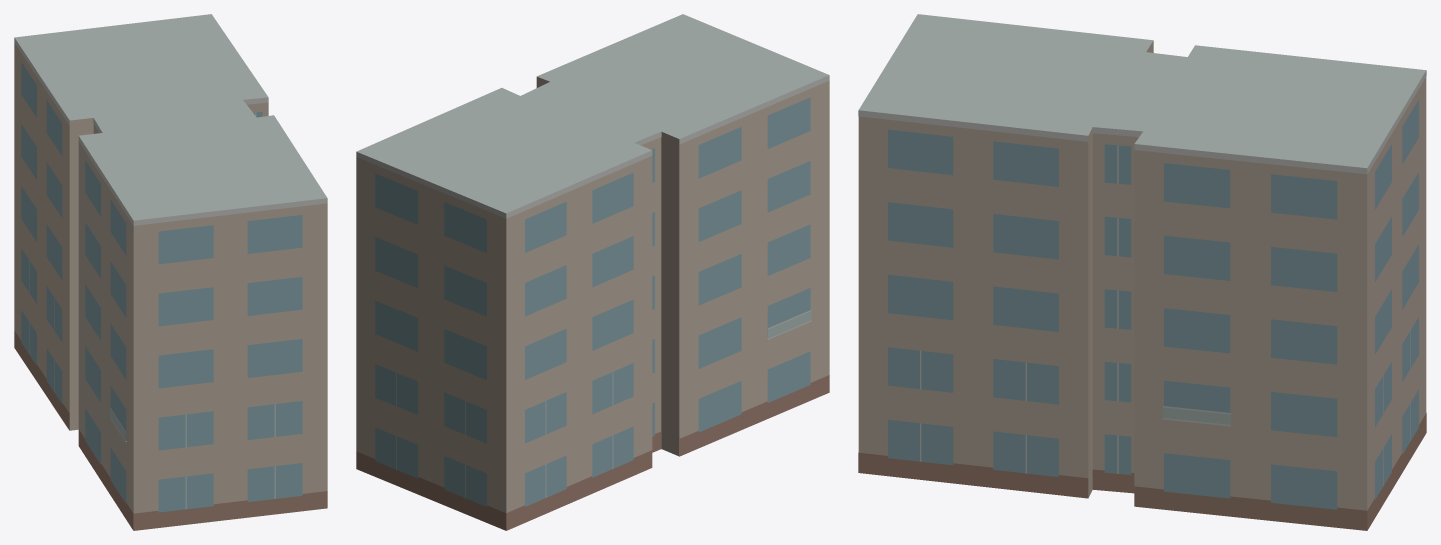
The model's file is survey-upis-32473156.glb.
3 views of the same model, side by side, from view 1: azimuth 30°, elevation 25°; view 2: azimuth 150°, elevation 25°; view 3: azimuth 270°, elevation 25° (orthographic). The views are drawn at different scales.
Visible parts, largest first — view 1: survey-upis-32473156.tmp; view 2: survey-upis-32473156.tmp; view 3: survey-upis-32473156.tmp.
Boxes of the visible parts, x1,y1,x2,y2 form: survey-upis-32473156.tmp: (14,14,327,530); survey-upis-32473156.tmp: (356,14,829,530); survey-upis-32473156.tmp: (858,14,1426,530).
Size of the model in its own units: 13.23 by 14.5 by 20.59.
